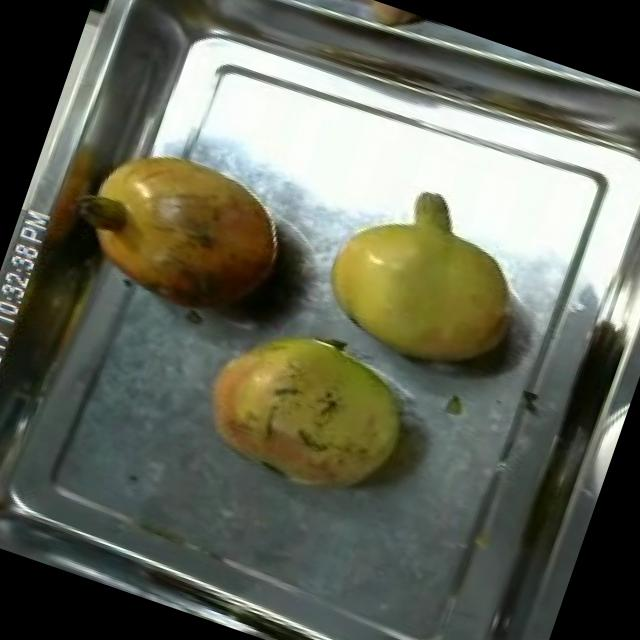fruit: (294, 164, 552, 396), (43, 122, 308, 344), (175, 295, 431, 520), (331, 0, 443, 48)
